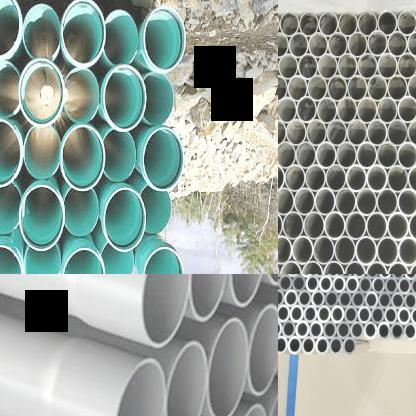pipe: (209, 316, 252, 416), (139, 274, 192, 350), (110, 354, 167, 416), (165, 339, 210, 416), (18, 58, 66, 126), (58, 124, 106, 191), (20, 182, 66, 250), (61, 0, 105, 67), (142, 6, 186, 72), (104, 64, 146, 130), (104, 187, 146, 252), (142, 126, 184, 190), (249, 303, 278, 394), (24, 122, 61, 180), (23, 3, 61, 59), (64, 67, 100, 124), (103, 9, 138, 66), (189, 274, 229, 322), (63, 187, 99, 237), (103, 130, 136, 182), (142, 72, 173, 125), (140, 185, 172, 233), (229, 274, 267, 308), (142, 245, 184, 274), (61, 247, 105, 274), (0, 181, 22, 234), (0, 60, 20, 118), (24, 243, 61, 274), (0, 0, 20, 57), (100, 242, 134, 274), (0, 243, 23, 274), (377, 236, 399, 268), (334, 236, 356, 266), (313, 236, 335, 266), (387, 212, 409, 242), (356, 237, 378, 266), (292, 236, 314, 265), (366, 212, 388, 241), (345, 212, 367, 241), (324, 211, 346, 240), (376, 188, 398, 217), (386, 165, 408, 194), (366, 165, 388, 194), (335, 188, 357, 216), (314, 188, 336, 216), (284, 164, 306, 192), (356, 142, 378, 170), (366, 120, 388, 148), (326, 120, 348, 148), (336, 97, 358, 125), (316, 97, 338, 125), (304, 211, 325, 240), (283, 211, 304, 240), (356, 188, 377, 217), (387, 118, 408, 147), (294, 188, 315, 216), (346, 164, 367, 192), (305, 164, 326, 192), (377, 142, 398, 170), (336, 142, 357, 170), (316, 142, 337, 170), (346, 120, 367, 148), (306, 119, 327, 147), (286, 118, 307, 146), (377, 97, 398, 125), (357, 97, 378, 125), (297, 97, 318, 124), (287, 75, 308, 102), (387, 75, 408, 102), (307, 75, 328, 102), (377, 53, 398, 80), (326, 164, 346, 192), (296, 142, 316, 170), (368, 75, 388, 103), (397, 188, 416, 217), (397, 141, 416, 170), (327, 76, 348, 102), (347, 76, 368, 102), (358, 53, 378, 80), (289, 32, 309, 59), (368, 31, 388, 58), (397, 96, 416, 124), (398, 237, 416, 266), (278, 54, 298, 80), (298, 54, 318, 80), (338, 54, 358, 80), (318, 54, 338, 80), (308, 32, 328, 58), (328, 32, 348, 58), (348, 32, 368, 58), (388, 32, 408, 58), (280, 12, 300, 38), (318, 12, 338, 38), (338, 12, 358, 38), (358, 11, 378, 37), (378, 10, 398, 36), (278, 97, 297, 124), (397, 53, 416, 80), (278, 141, 296, 169), (397, 10, 416, 36), (300, 12, 318, 38), (278, 188, 294, 216), (278, 236, 292, 265), (301, 260, 323, 274), (301, 336, 316, 356), (303, 304, 318, 324), (365, 261, 388, 274), (278, 32, 289, 58), (344, 261, 366, 274), (315, 336, 330, 355), (289, 304, 304, 323), (288, 336, 302, 356), (377, 321, 391, 341), (350, 320, 364, 340), (336, 320, 350, 340), (323, 320, 337, 340), (309, 320, 323, 340), (296, 320, 310, 340), (397, 306, 411, 326), (344, 305, 358, 325), (330, 304, 344, 324), (364, 290, 378, 310), (284, 288, 298, 308), (319, 274, 333, 294), (306, 274, 320, 294), (342, 336, 356, 356), (329, 336, 343, 356), (323, 261, 344, 274), (280, 261, 301, 274), (384, 276, 399, 294), (358, 276, 373, 294), (390, 322, 404, 341), (364, 321, 378, 340), (282, 320, 296, 339), (384, 306, 398, 325), (371, 306, 385, 325), (317, 305, 331, 324), (352, 290, 366, 309), (298, 289, 312, 308), (346, 275, 360, 294), (332, 275, 346, 294), (292, 274, 306, 293), (387, 262, 409, 274), (407, 118, 416, 147), (407, 165, 416, 193), (358, 306, 372, 324), (391, 292, 405, 310), (378, 292, 392, 310), (324, 290, 338, 308), (338, 290, 352, 308), (311, 290, 325, 308), (372, 276, 386, 294), (278, 274, 292, 292), (278, 119, 287, 146), (278, 75, 287, 102), (407, 74, 416, 101), (408, 212, 416, 242), (407, 32, 416, 58), (403, 322, 416, 340), (398, 277, 411, 295), (404, 291, 416, 310), (278, 303, 289, 323), (278, 164, 285, 192), (278, 335, 288, 354), (278, 211, 283, 240), (278, 288, 285, 307), (410, 307, 416, 326), (411, 277, 416, 295), (391, 274, 405, 280), (278, 319, 282, 339), (379, 274, 392, 280), (404, 274, 416, 280), (352, 274, 366, 279), (339, 274, 353, 279), (366, 274, 379, 279), (326, 274, 340, 278), (313, 274, 327, 278), (300, 274, 314, 278)
